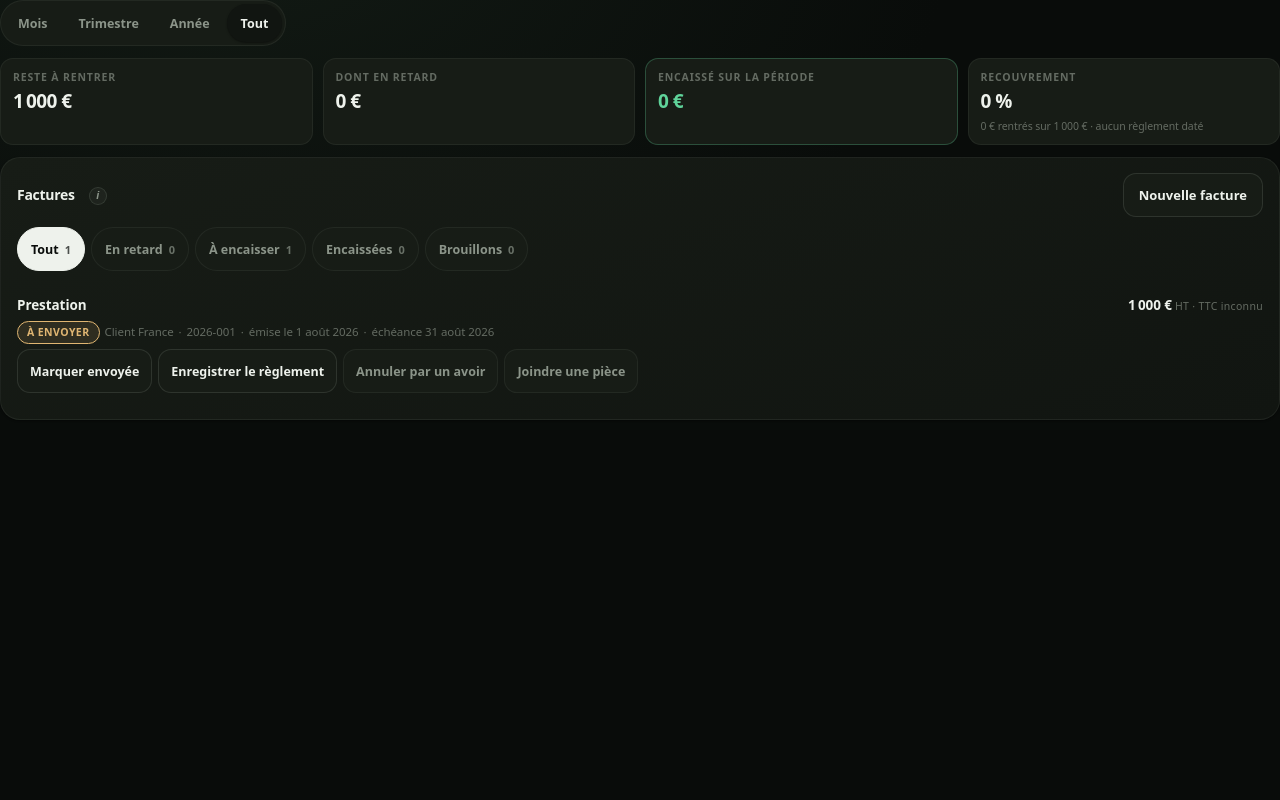
it: enregistrer un règlement › exige la date ET le mode, donc un panneau et non une case à cocher
Step 1. Click the button "Enregistrer le règlement" → [248, 371], box [158, 349, 337, 393]
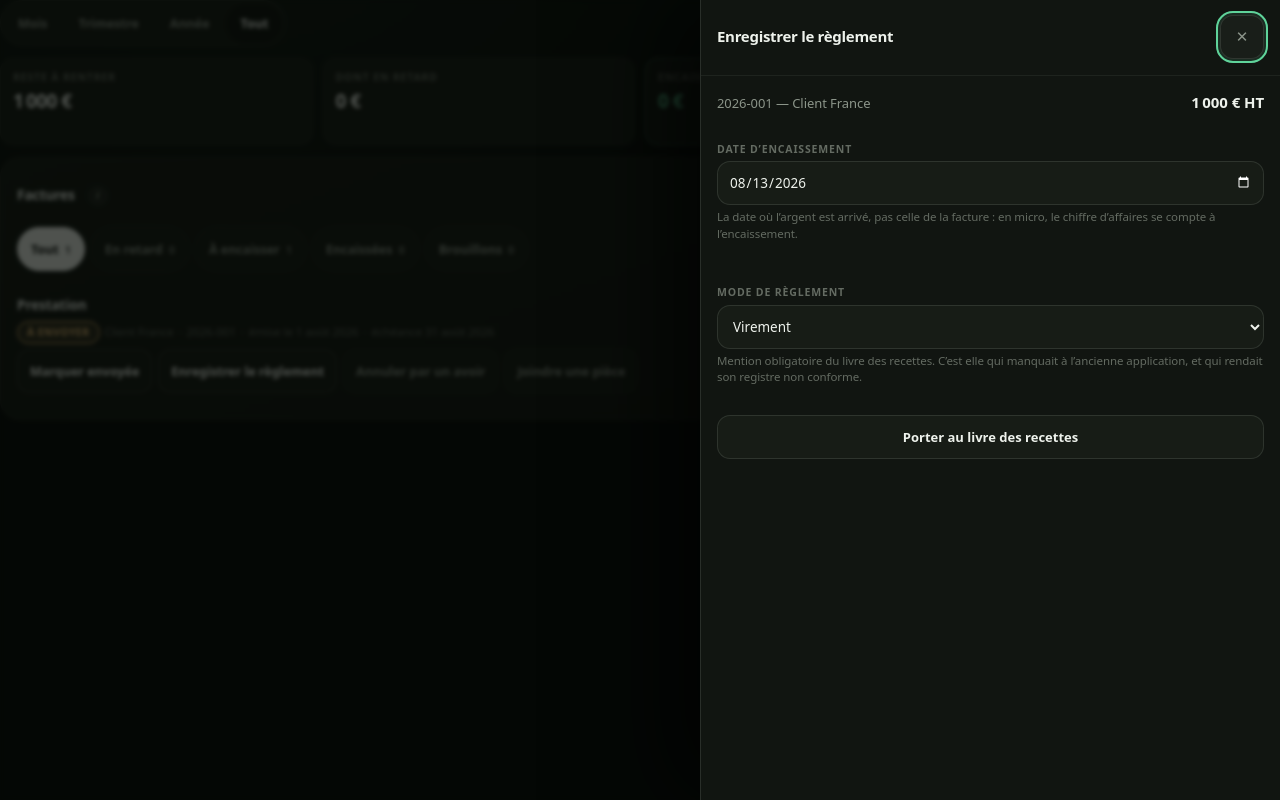
Check: the date field labelled "Date d’encaissement" is shown, box [717, 161, 1264, 205]
Check: the dropdown labelled "Mode de règlement" is shown, box [717, 305, 1264, 349]
